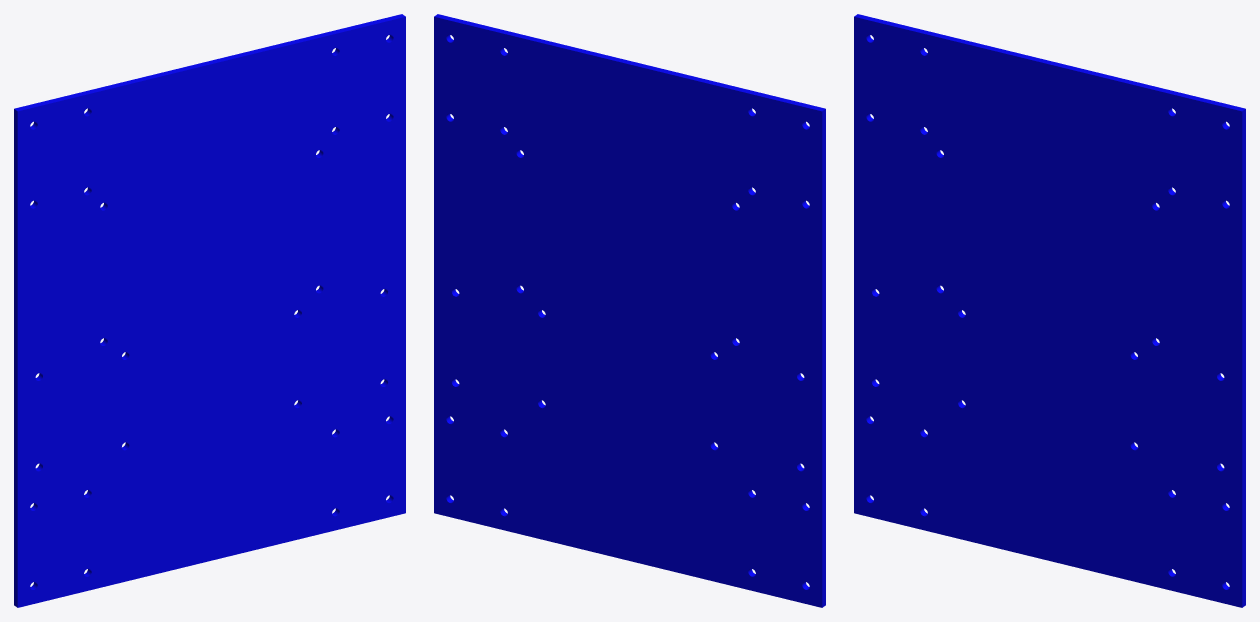
Rendered from Base_TT_WAKANDA_1.dae.
3 views of the same model, side by side, from view 1: azimuth 30°, elevation 25°; view 2: azimuth 150°, elevation 25°; view 3: azimuth 330°, elevation 25° (orthographic).
Parts seen in each view (by area): view 1: node0; view 2: node0; view 3: node0.
Boxes of the visible parts, x1,y1,x2,y2 form: node0: (14, 14, 405, 607); node0: (434, 14, 825, 607); node0: (854, 14, 1245, 607).
Bounding box in the file's own units: 0.18 × 0.22 × 0.003.
